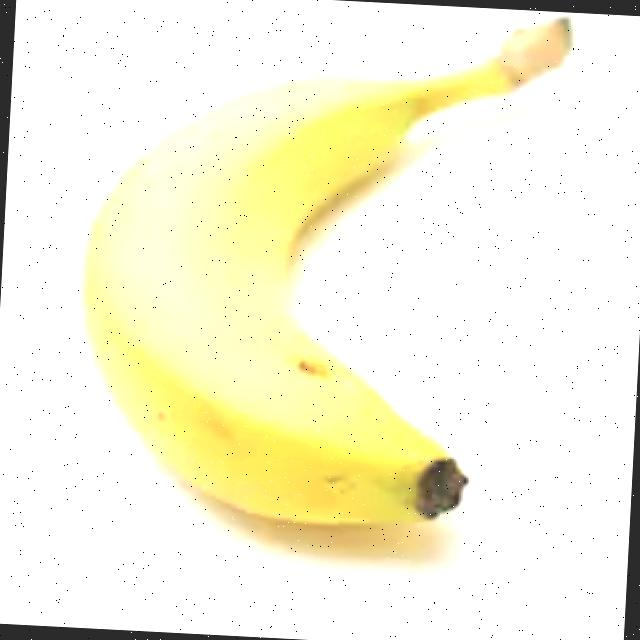Ripe: (60, 0, 605, 561)
